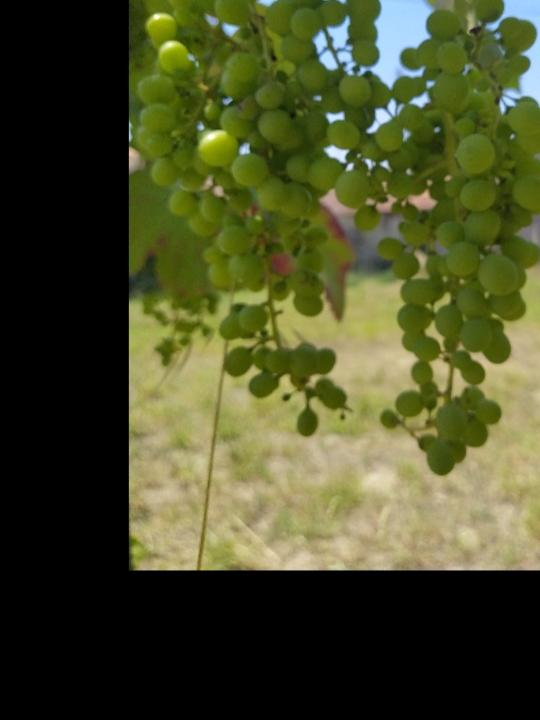grape: (132, 0, 384, 437), (354, 0, 540, 478)
